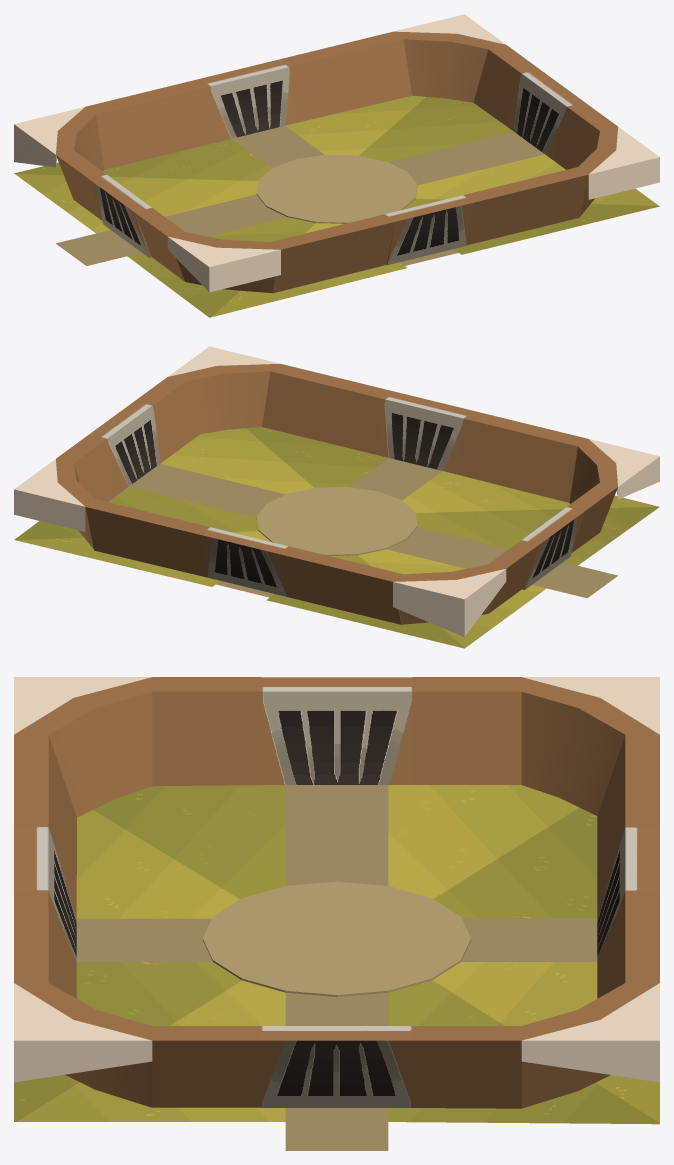
File: environment.fbx
The picture shows the model from 3 angles, top to bottom: view 1: azimuth 30°, elevation 25°; view 2: azimuth 150°, elevation 25°; view 3: azimuth 270°, elevation 25°; orthographic projection. The views are drawn at different scales.
Parts seen in each view (by area): view 1: baseWall_2 (×4), polySurface2, baseCorner (×4), polySurface1, baseWall_1 (×4), polySurface3, polySurface4, gateBase, gateBase3, corner7, gateBase2, corner6 (+12 smaller); view 2: baseWall_2 (×4), polySurface4, polySurface3, baseCorner (×4), baseWall_1 (×4), polySurface1, gateBase3, polySurface2, corner1, gateBase, gateBase2, corner5 (+12 smaller); view 3: baseWall_1 (×4), baseCorner (×4), polySurface2, polySurface4, baseWall_2 (×4), polySurface1, polySurface3, gateBase1, gateBase2, corner5, corner6, basePath4 (+13 smaller).
Part boxes in pixels (x1,y1,x2,y2): baseWall_2 (×4): (86, 31, 588, 293); polySurface2: (14, 139, 271, 233); baseCorner (×4): (56, 31, 617, 292); polySurface1: (285, 95, 513, 162); baseWall_1 (×4): (56, 45, 617, 281); polySurface3: (403, 154, 659, 254); polySurface4: (127, 217, 406, 317); gateBase: (200, 59, 297, 141); gateBase3: (385, 195, 473, 265); corner7: (167, 236, 280, 292); gateBase2: (506, 69, 584, 159); corner6: (588, 127, 659, 199); baseWall_2 (×4): (85, 364, 587, 624); polySurface4: (402, 471, 659, 565); polySurface3: (160, 427, 387, 494); baseCorner (×4): (56, 364, 617, 624); baseWall_1 (×4): (56, 377, 617, 613); polySurface1: (14, 486, 270, 586); gateBase3: (376, 391, 473, 473); polySurface2: (266, 549, 546, 648); corner1: (393, 569, 506, 636); gateBase: (200, 527, 288, 596); gateBase2: (89, 401, 167, 491); corner5: (14, 459, 85, 531); baseWall_1 (×4): (152, 677, 521, 1108); baseCorner (×4): (14, 677, 659, 1108); polySurface2: (388, 785, 597, 918); polySurface4: (76, 785, 285, 918); baseWall_2 (×4): (14, 734, 659, 998); polySurface1: (388, 962, 659, 1124); polySurface3: (14, 962, 285, 1121); gateBase1: (261, 677, 412, 785); gateBase2: (261, 1026, 412, 1107); corner5: (521, 983, 659, 1082); corner6: (14, 983, 152, 1082); basePath4: (285, 819, 388, 885).
Size of the model in its own units: 21.8 by 2.02 by 14.
Materials: 9 (8 with a texture image).
